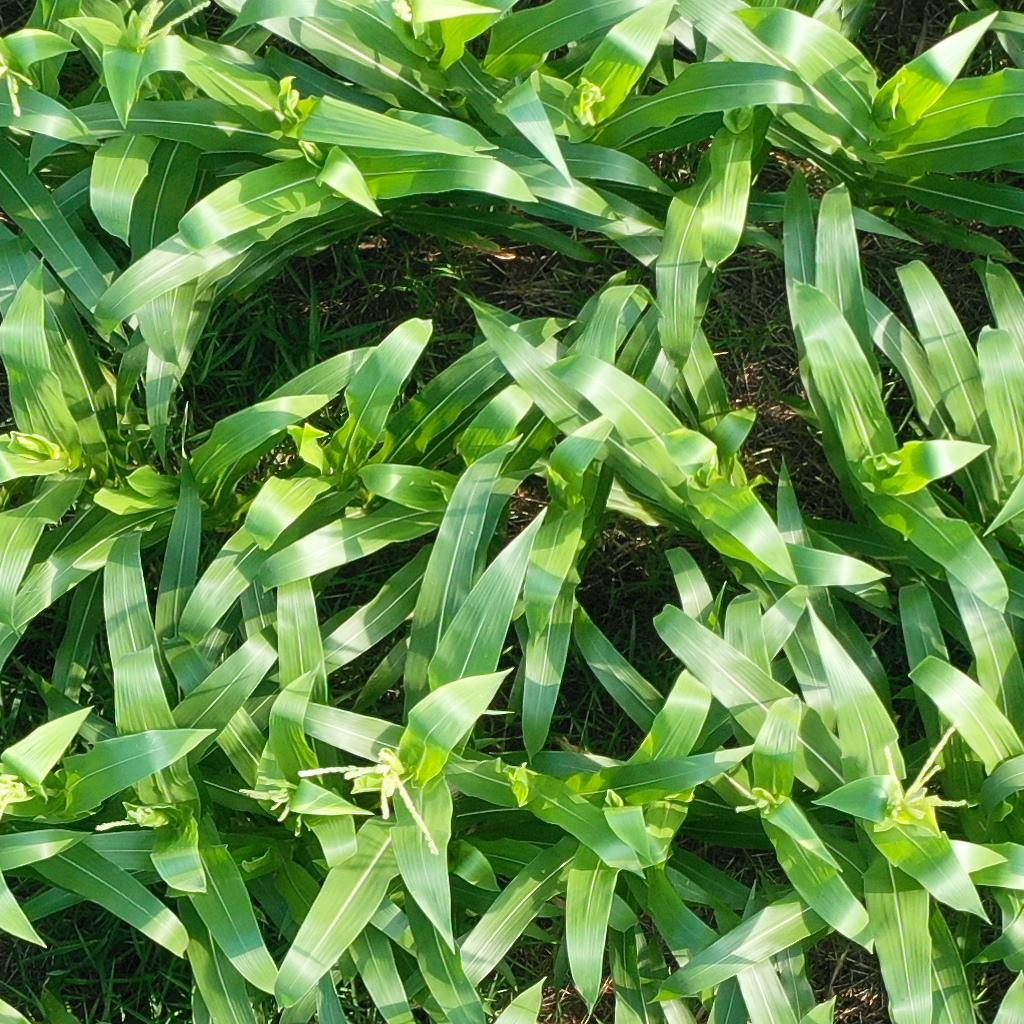Tassel: (294, 749, 450, 856), (875, 714, 968, 825), (128, 1, 216, 50), (236, 774, 291, 823), (1, 55, 34, 119), (93, 802, 156, 835), (572, 74, 605, 126), (1, 771, 33, 819), (733, 789, 776, 820), (389, 1, 419, 25), (286, 86, 303, 111)
